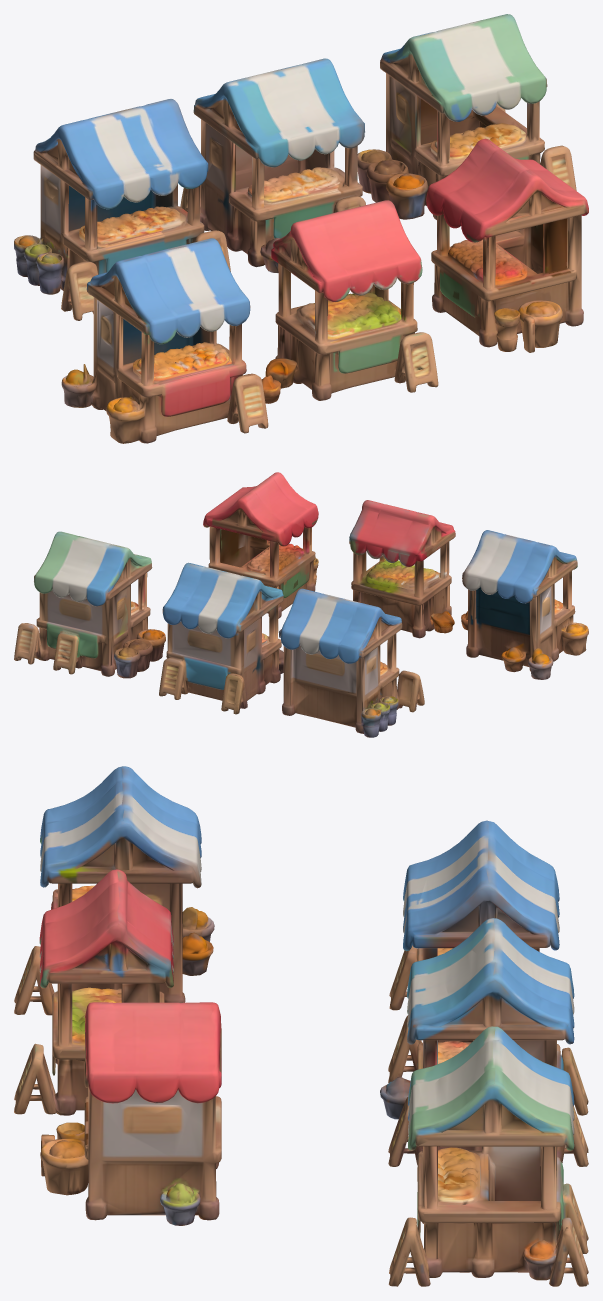
File: market-stall.glb
The picture shows the model from 3 angles, top to bottom: view 1: azimuth 30°, elevation 25°; view 2: azimuth 150°, elevation 25°; view 3: azimuth 270°, elevation 25°; orthographic projection. The views are drawn at different scales.
Parts seen in each view (by area): view 1: node_0; view 2: node_0; view 3: node_0.
Part boxes in pixels (x1,y1,x2,y2): node_0: [14, 14, 588, 443]; node_0: [14, 472, 588, 737]; node_0: [14, 766, 588, 1286].
Size of the model in its own units: 0.9693 by 0.2513 by 0.674.
1 material, 1 textured.
